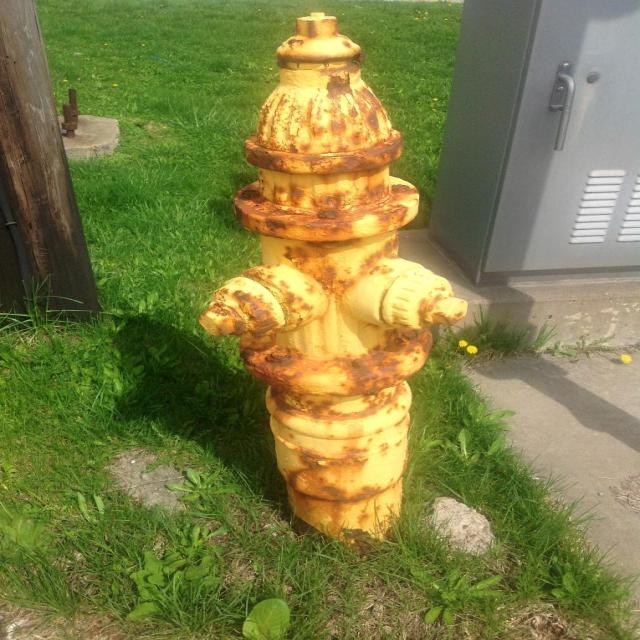fire_hydrant: (198, 9, 461, 540)
